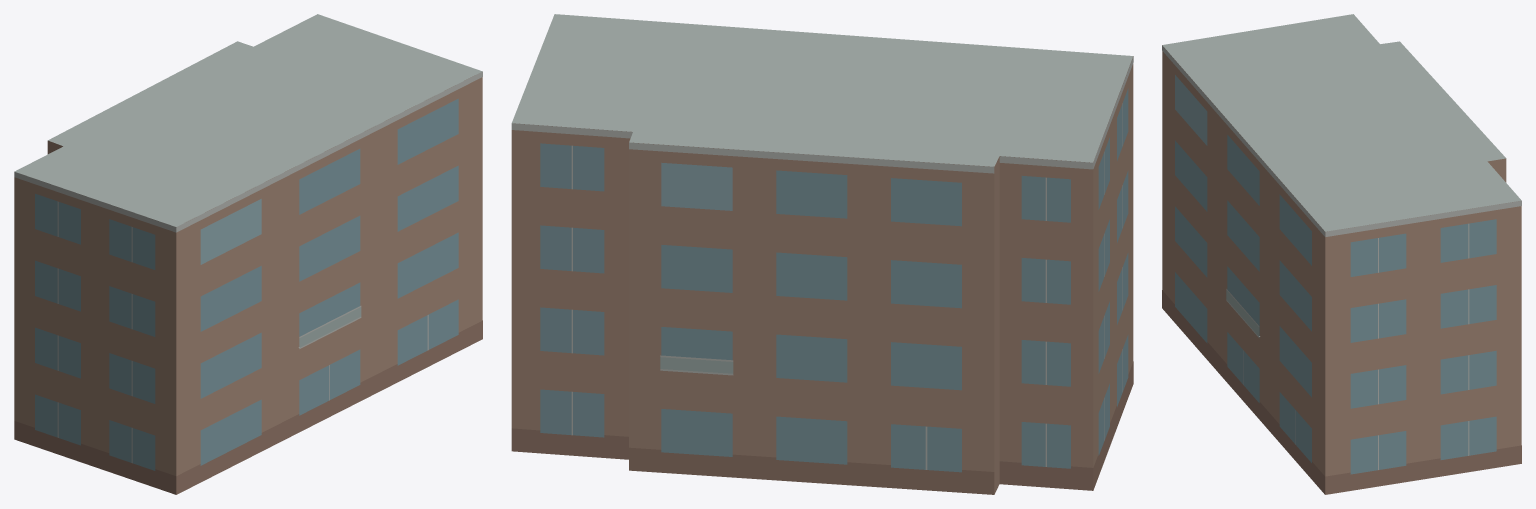
File: survey-upis-33027031.glb
The picture shows the model from 3 angles, left to right: view 1: azimuth 30°, elevation 25°; view 2: azimuth 150°, elevation 25°; view 3: azimuth 270°, elevation 25°; orthographic projection. The views are drawn at different scales.
Parts seen in each view (by area): view 1: survey-upis-33027031.tmp; view 2: survey-upis-33027031.tmp; view 3: survey-upis-33027031.tmp.
Part boxes in pixels (x1,y1,x2,y2): survey-upis-33027031.tmp: [14, 14, 482, 494]; survey-upis-33027031.tmp: [511, 14, 1133, 494]; survey-upis-33027031.tmp: [1162, 14, 1521, 494].
Size of the model in its own units: 20.95 by 11.8 by 14.63.
